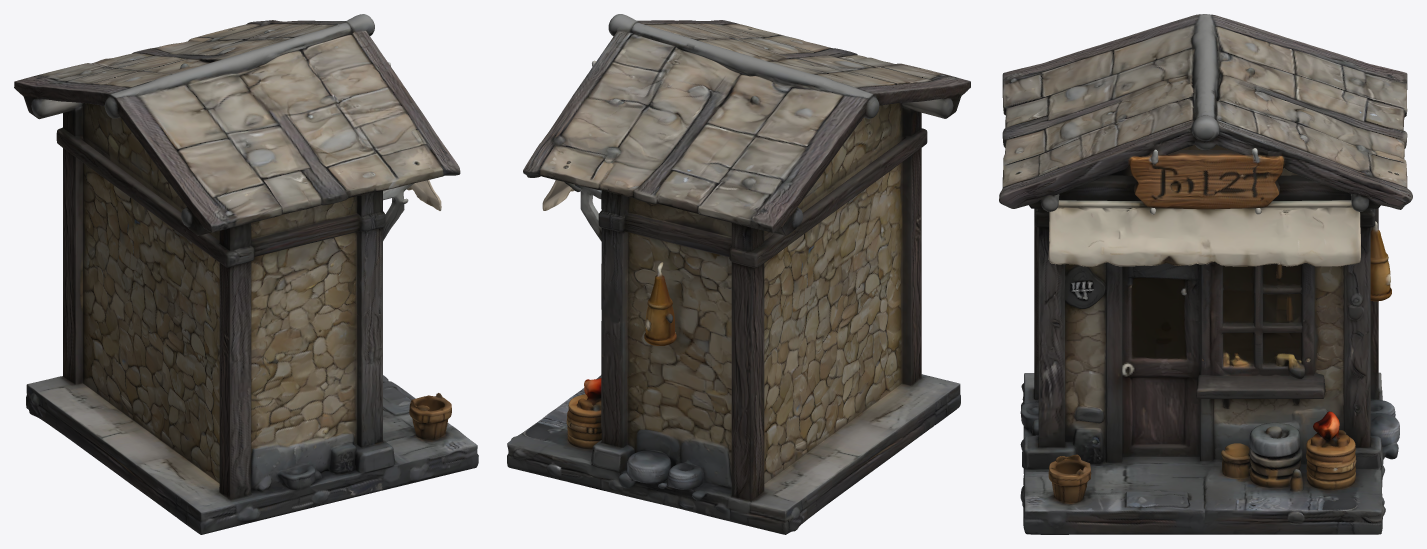
The model's file is building-shop.glb.
The picture shows the model from 3 angles, left to right: view 1: azimuth 30°, elevation 25°; view 2: azimuth 150°, elevation 25°; view 3: azimuth 270°, elevation 25°; orthographic projection. The views are drawn at different scales.
Visible parts, largest first — view 1: tripo_node_8d629beb-ffa2-497b-b973-e90185ec5cd8; view 2: tripo_node_8d629beb-ffa2-497b-b973-e90185ec5cd8; view 3: tripo_node_8d629beb-ffa2-497b-b973-e90185ec5cd8.
Boxes of the visible parts, <box> form: tripo_node_8d629beb-ffa2-497b-b973-e90185ec5cd8: <box>14,14,478,534</box>; tripo_node_8d629beb-ffa2-497b-b973-e90185ec5cd8: <box>507,14,970,534</box>; tripo_node_8d629beb-ffa2-497b-b973-e90185ec5cd8: <box>999,14,1412,534</box>.
Bounding box in the file's own units: 4.54 × 6 × 5.58.
1 material, 1 textured.
